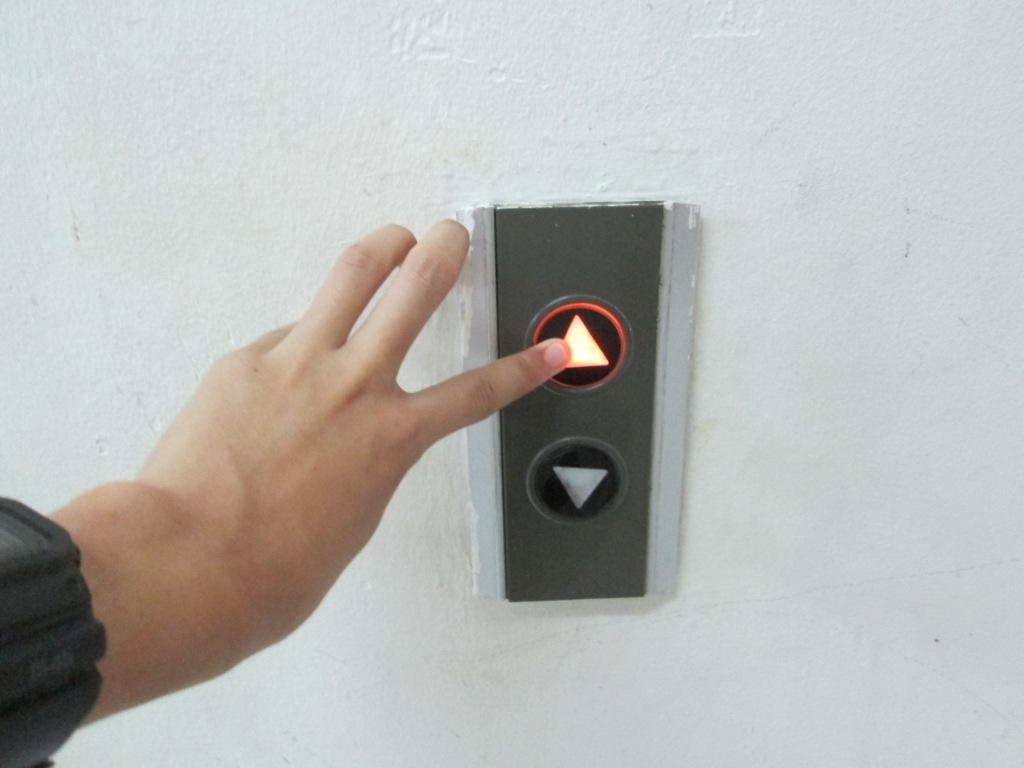down: (526, 432, 627, 530)
up: (525, 290, 634, 397)
